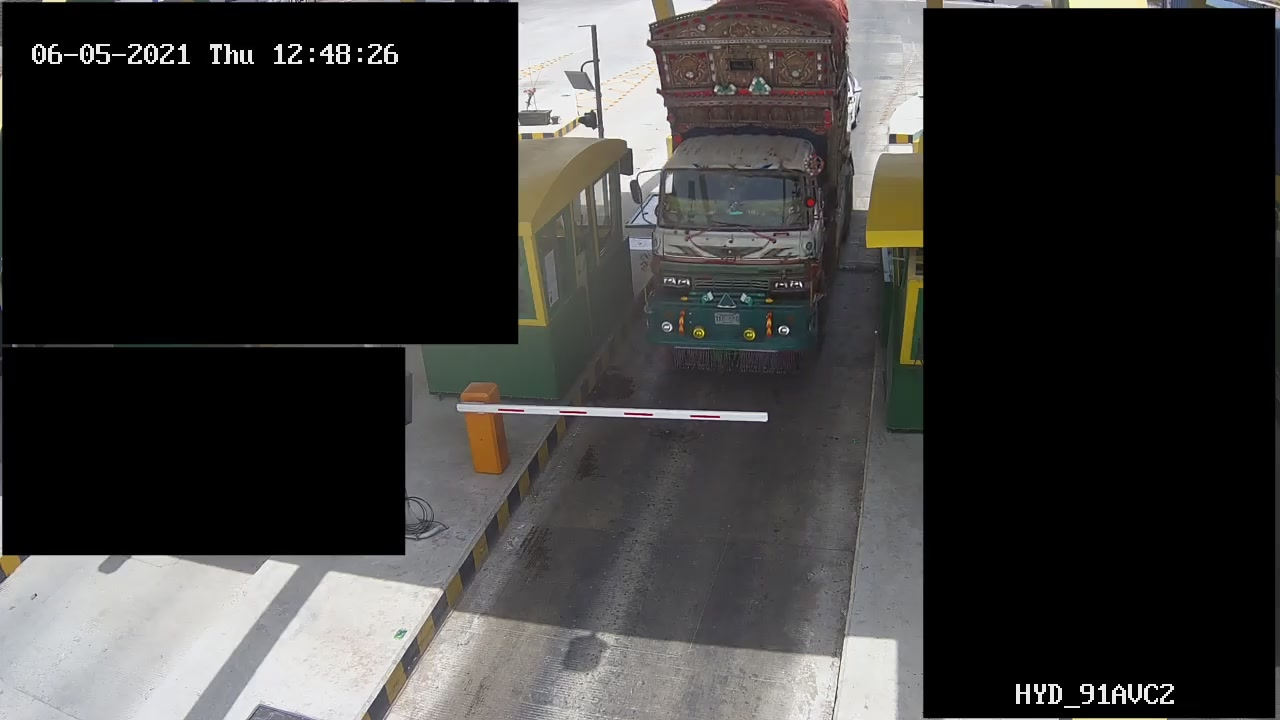F5: (643, 1, 862, 374)
